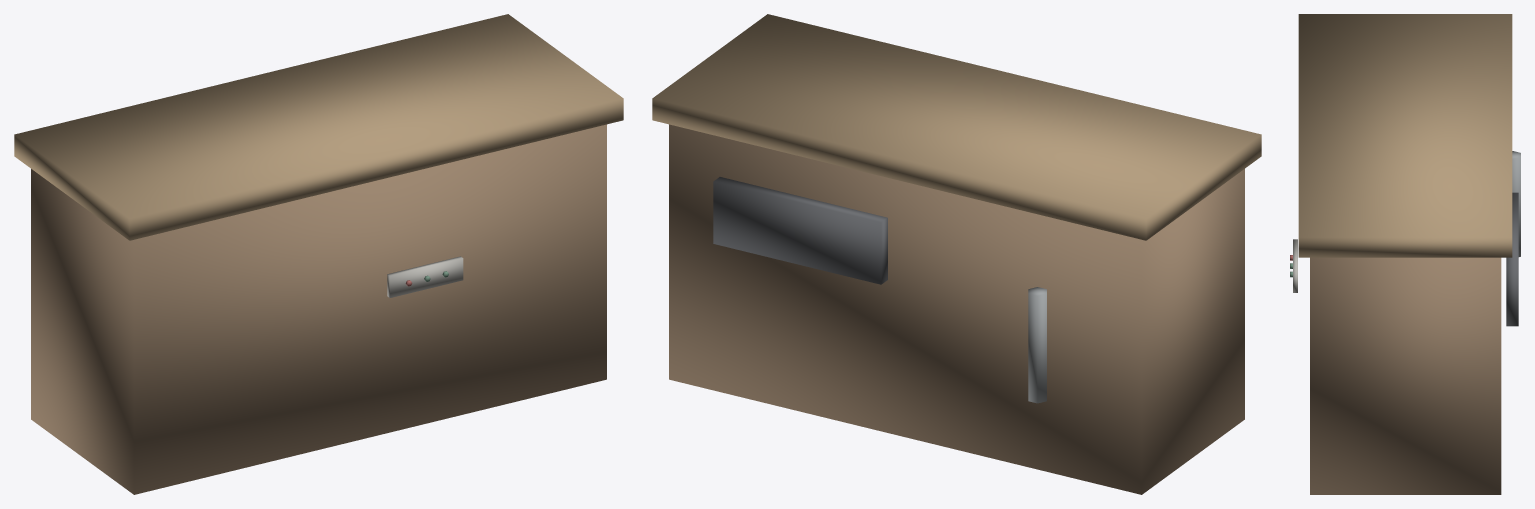
Rendered from hotel_reception_counter__service.glb.
3 views of the same model, side by side, from view 1: azimuth 30°, elevation 25°; view 2: azimuth 150°, elevation 25°; view 3: azimuth 270°, elevation 25° (orthographic). The views are drawn at different scales.
Parts seen in each view (by area): view 1: world; view 2: world; view 3: world.
Part boxes in pixels (x1,y1,x2,y2): world: (14,14,623,494); world: (652,14,1261,494); world: (1290,14,1520,494).
Size of the model in its own units: 1.88 by 1.03 by 0.8213.
